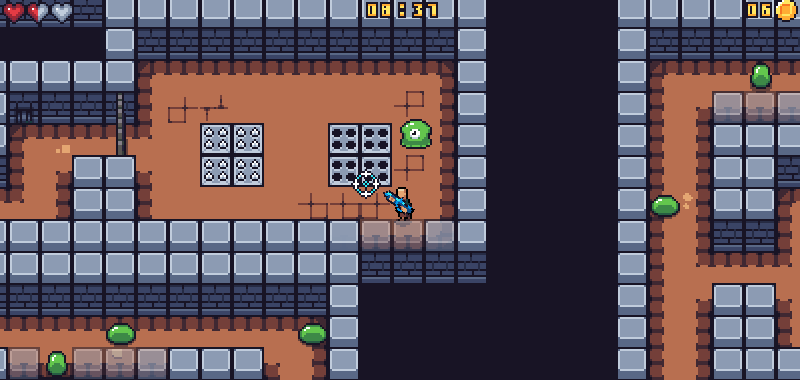enemy_slug: (99, 318, 142, 349), (39, 344, 75, 379), (294, 316, 332, 349), (647, 189, 683, 221), (747, 55, 775, 93)
enemy_slug_big: (395, 115, 437, 153)
trap_door: (107, 82, 135, 164)
trap_off: (199, 121, 266, 187), (327, 121, 393, 187)
